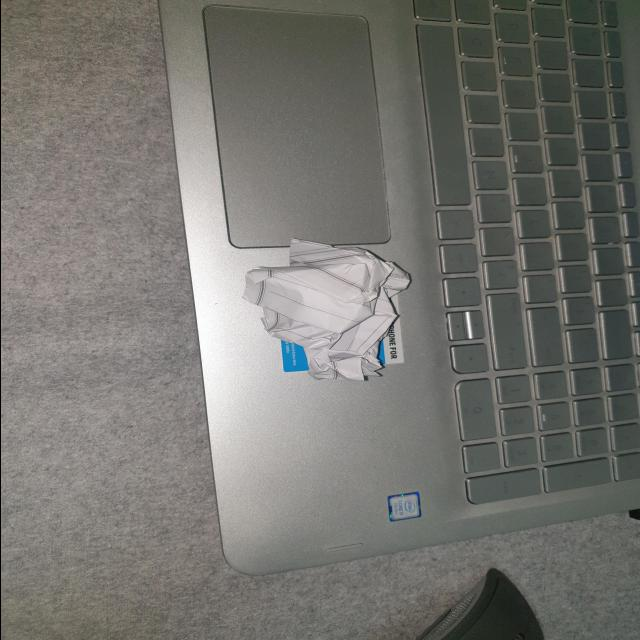kertas: (232, 230, 418, 392)
